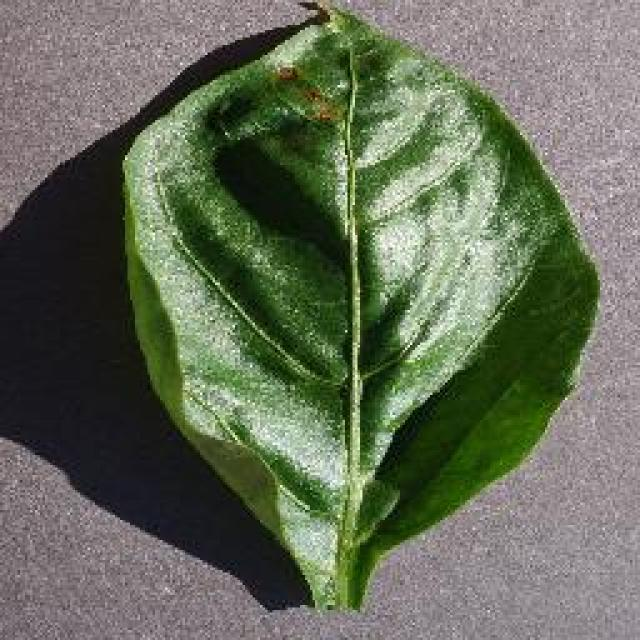Chilli_Bacterial_Spot: (115, 0, 603, 615), (267, 58, 345, 130), (202, 88, 258, 140), (290, 0, 335, 30), (270, 60, 302, 88), (295, 82, 325, 108)
